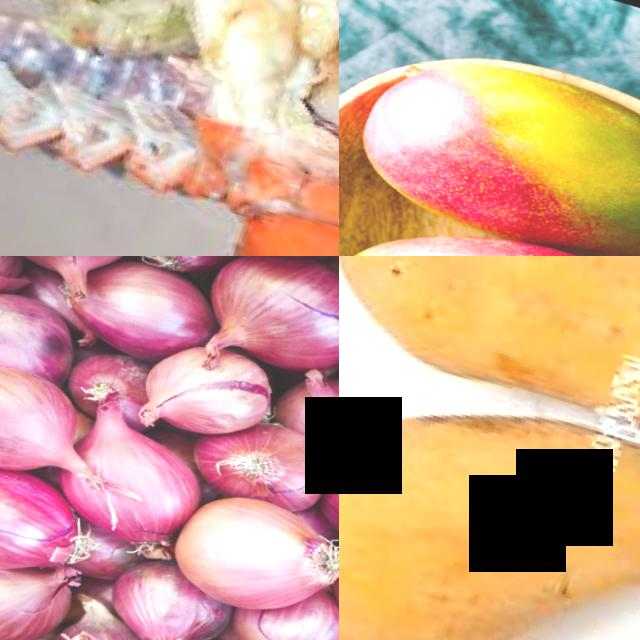lobster tails: (116, 0, 339, 256)
mango: (339, 323, 640, 640), (339, 23, 640, 256), (339, 256, 640, 467), (339, 184, 640, 256)
onion: (164, 479, 339, 632), (54, 410, 213, 555), (197, 256, 339, 386), (71, 256, 219, 375), (135, 333, 274, 447), (0, 342, 98, 489), (0, 445, 85, 579), (97, 560, 228, 640), (0, 276, 78, 384), (0, 551, 74, 640), (0, 256, 138, 286)
